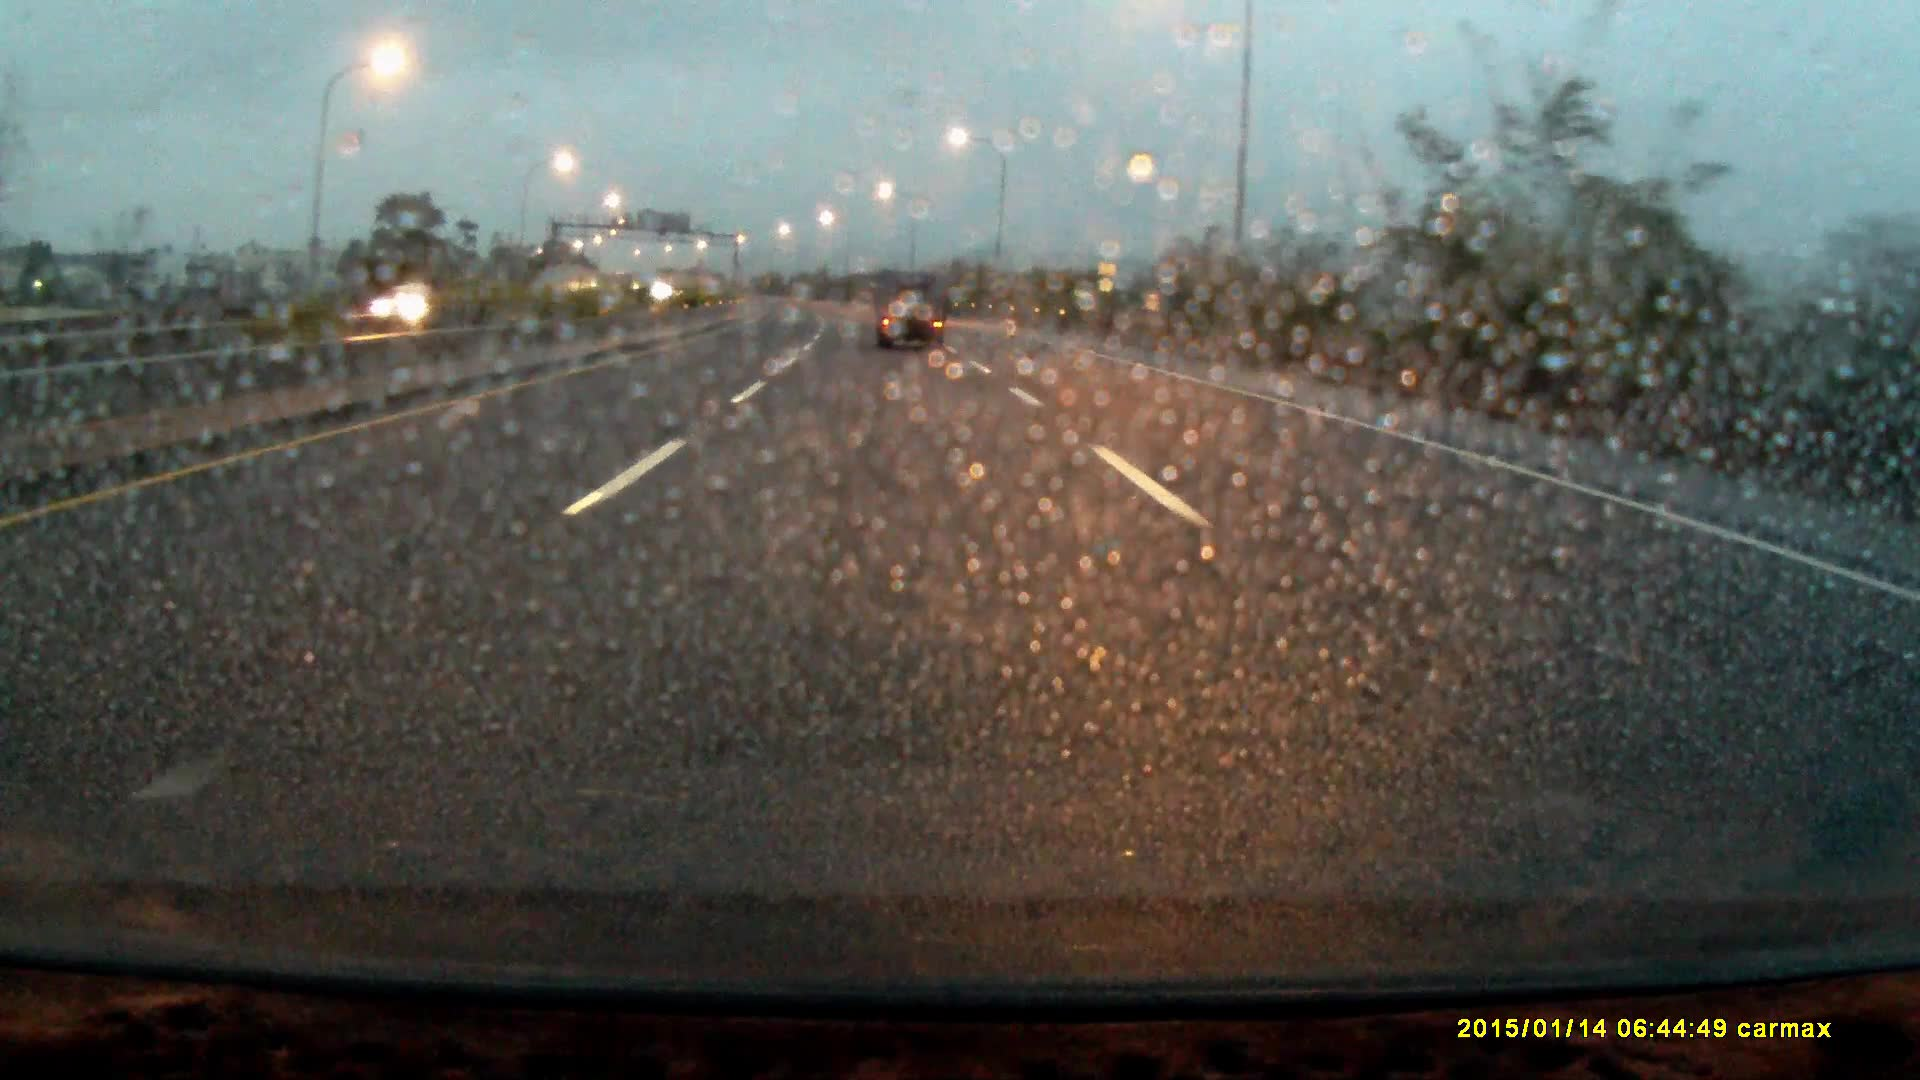vehicle: (874, 268, 944, 353), (368, 282, 440, 320)
